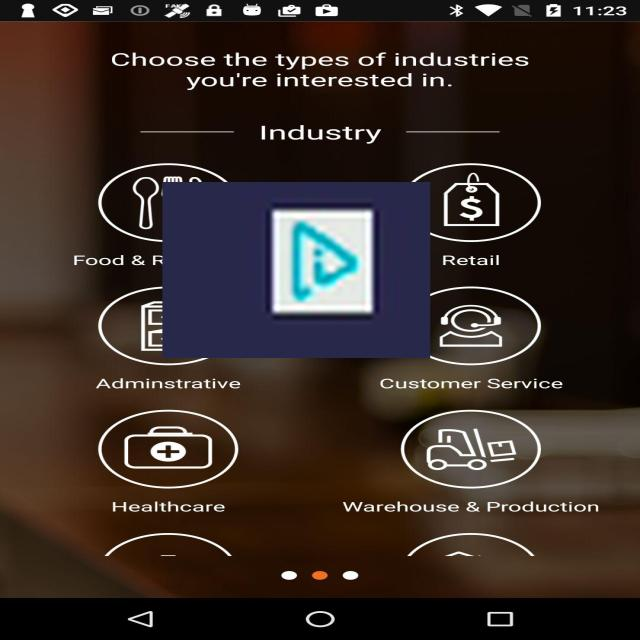sneaking: (162, 182, 430, 358)
